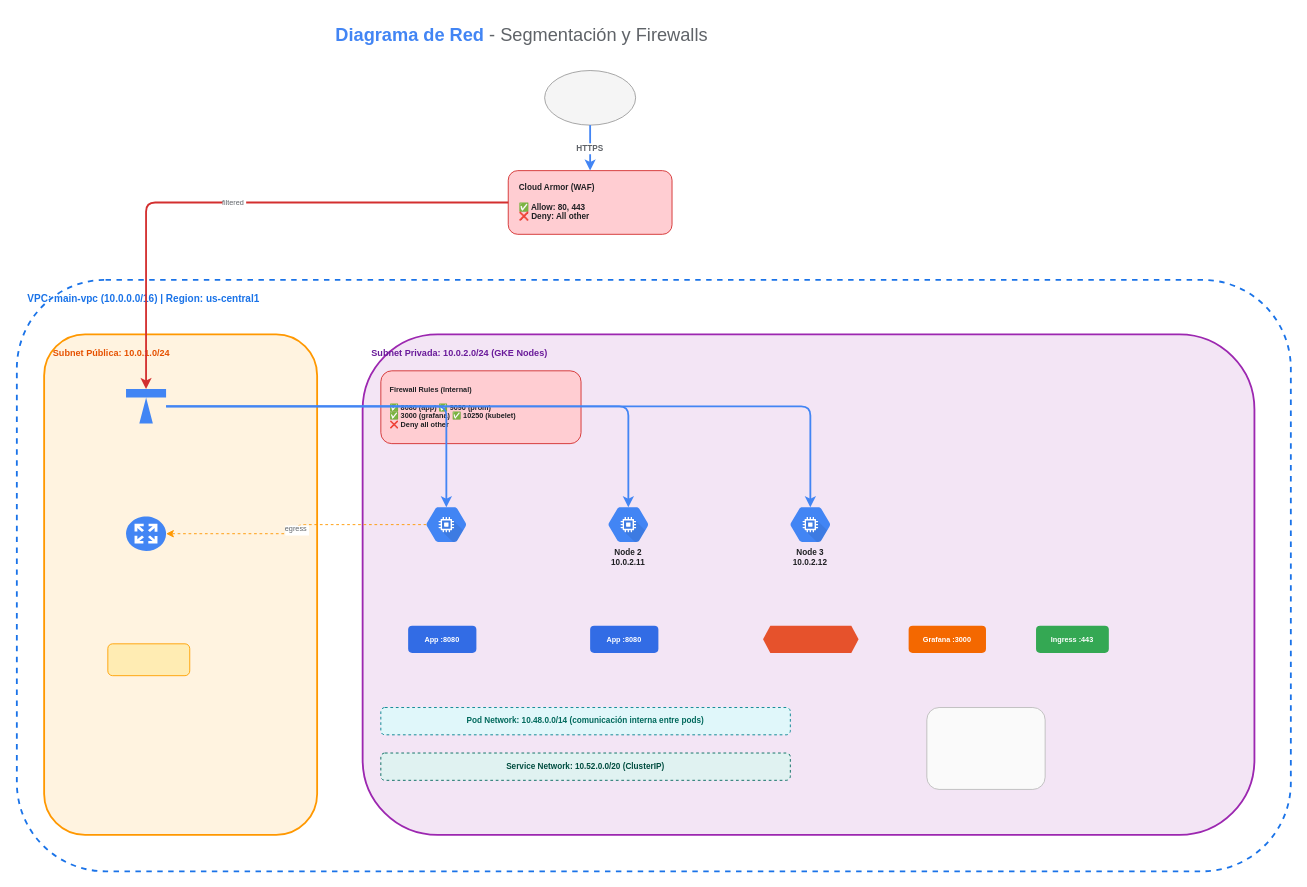
The diagram is 1307 pixels wide and 887 high, and some of its shapes have lost their labels. The shapes that lost their labels are listed below. From the top down, each one's centre as x and y in pixels, then its label:
At (x=590, y=97): "Internet".
At (x=146, y=406): "Cloud Load Balancing".
At (x=146, y=533): "Cloud NAT".
At (x=446, y=524): "Node 1 10.0.2.10".
At (x=810, y=638): "Prometheus :9090".
At (x=148, y=659): "Cloud Router".
At (x=985, y=748): "Puertos: 443 HTTPS (entrada) 8080 App 9090 Prometheus 3000 Grafana 10250 Kubelet".
